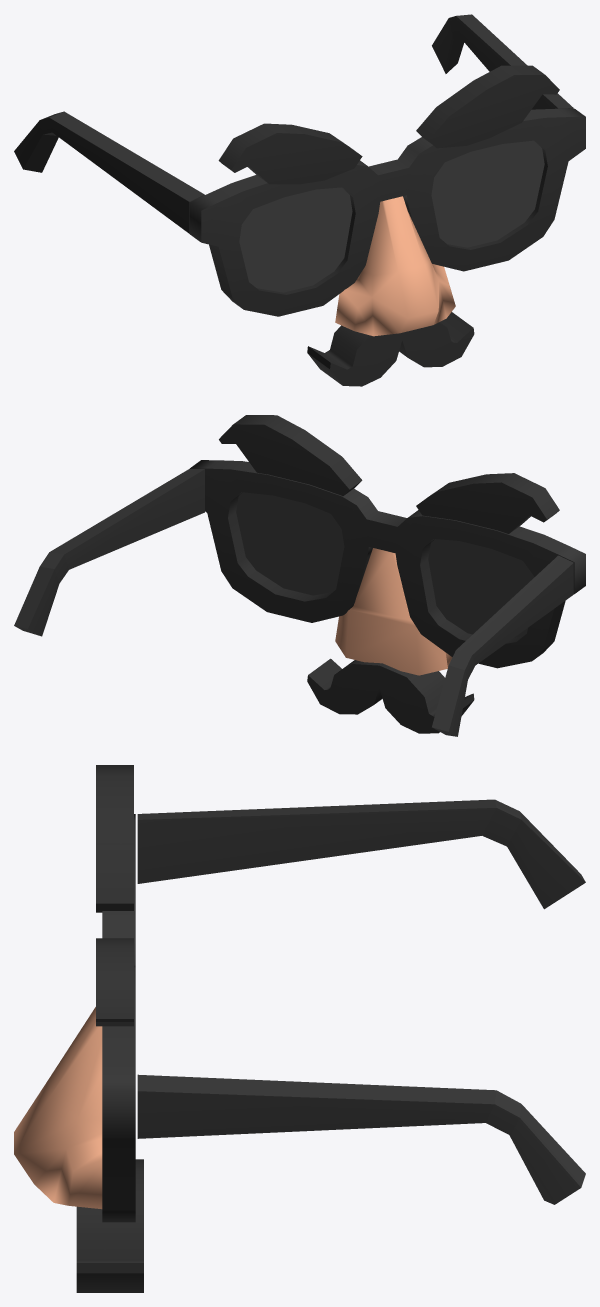
Rendered from Eyewear_5.fbx.
The picture shows the model from 3 angles, top to bottom: view 1: azimuth 30°, elevation 25°; view 2: azimuth 150°, elevation 25°; view 3: azimuth 270°, elevation 25°; orthographic projection. The views are drawn at different scales.
Parts seen in each view (by area): view 1: Eyewear_5; view 2: Eyewear_5; view 3: Eyewear_5.
Part boxes in pixels (left/top/right/bottom): Eyewear_5: left=14, top=14, right=585, bottom=386; Eyewear_5: left=14, top=415, right=585, bottom=736; Eyewear_5: left=14, top=765, right=585, bottom=1292.
Size of the model in its own units: 55 by 32.4 by 42.41.
